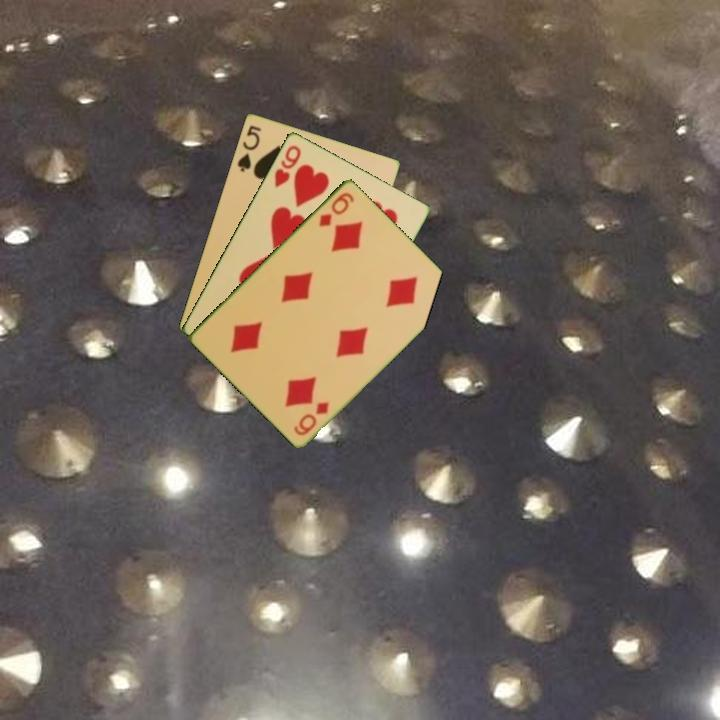5s: (234, 121, 264, 174)
6d: (315, 188, 357, 229), (290, 398, 332, 438)
9h: (271, 141, 304, 190)
